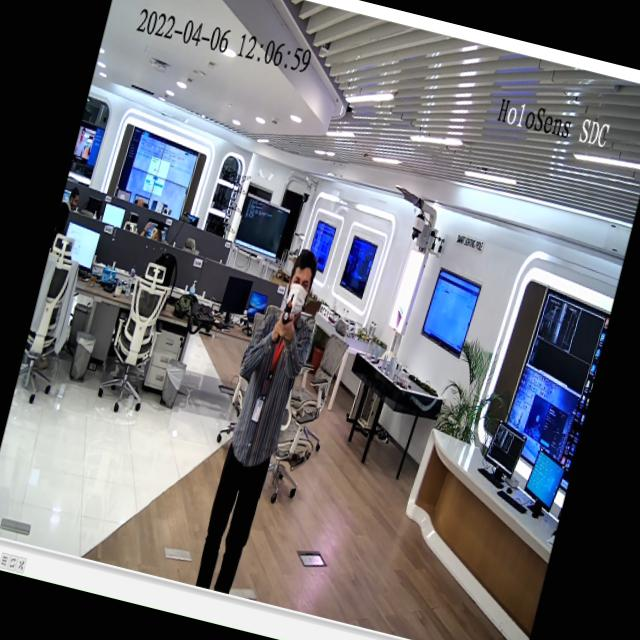long weapon: (278, 290, 298, 331)
